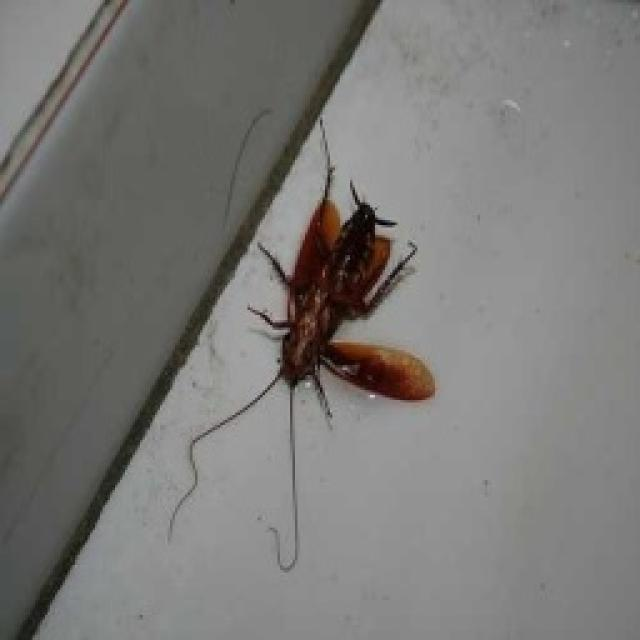cockroach: (164, 118, 441, 574)
